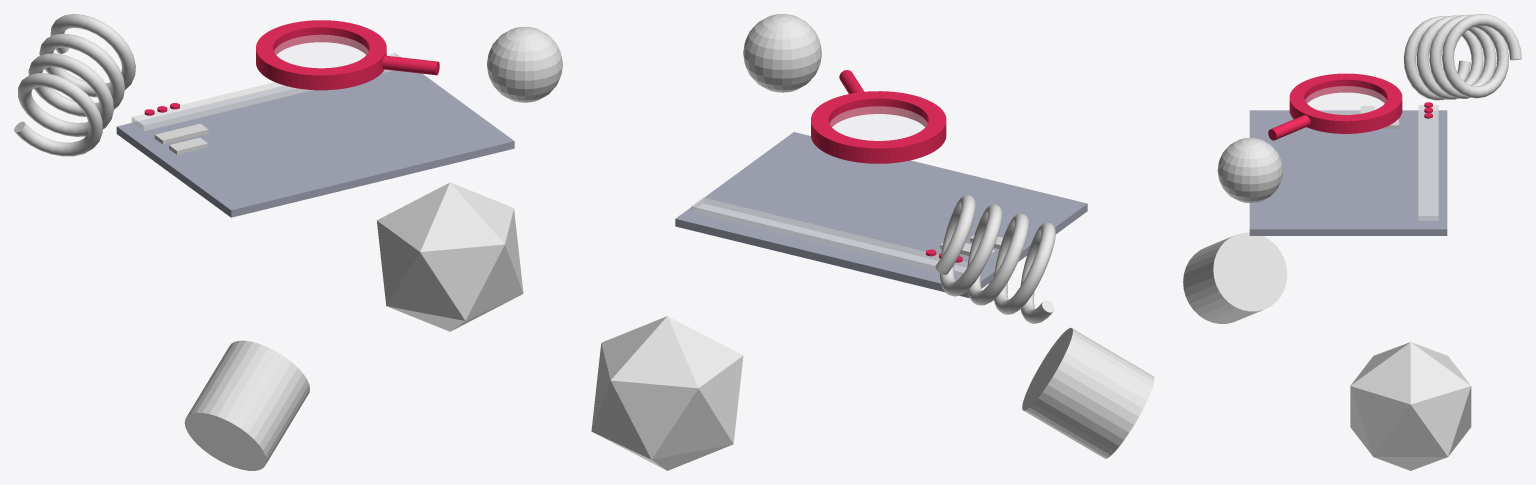
File: Audit (assets).gltf
3 views of the same model, side by side, from view 1: azimuth 30°, elevation 25°; view 2: azimuth 150°, elevation 25°; view 3: azimuth 270°, elevation 25° (orthographic). The views are drawn at different scales.
Visible parts, largest first — view 1: Plane, Icosphere, Cylinder.003, Helix, Circle, Sphere, Plane.001, Glass, Grip, Plane.003; view 2: Plane, Icosphere, Cylinder.003, Helix, Circle, Sphere, Plane.001, Glass; view 3: Plane, Icosphere, Helix, Cylinder.003, Circle, Sphere, Plane.001, Glass, Grip.
Part boxes in pixels (x1,y1,x2,y2): Plane: [116, 70, 514, 217]; Icosphere: [376, 182, 523, 331]; Cylinder.003: [184, 340, 309, 470]; Helix: [14, 14, 135, 156]; Circle: [256, 20, 386, 90]; Sphere: [487, 27, 562, 102]; Plane.001: [131, 53, 400, 131]; Glass: [274, 35, 368, 67]; Grip: [382, 55, 439, 75]; Plane.003: [154, 123, 208, 144]; Plane: [675, 132, 1087, 297]; Icosphere: [591, 316, 743, 470]; Cylinder.003: [1022, 328, 1154, 458]; Helix: [935, 195, 1055, 323]; Circle: [811, 91, 946, 163]; Sphere: [743, 14, 821, 92]; Plane.001: [691, 197, 967, 277]; Glass: [830, 106, 927, 140]; Plane: [1249, 110, 1447, 235]; Icosphere: [1350, 342, 1471, 470]; Helix: [1403, 14, 1521, 100]; Cylinder.003: [1183, 232, 1287, 323]; Circle: [1289, 73, 1402, 133]; Sphere: [1217, 137, 1283, 203]; Plane.001: [1418, 105, 1438, 220]; Glass: [1305, 86, 1386, 114]; Grip: [1268, 115, 1310, 140].
Size of the model in its own units: 3.3 by 2.52 by 2.4.
